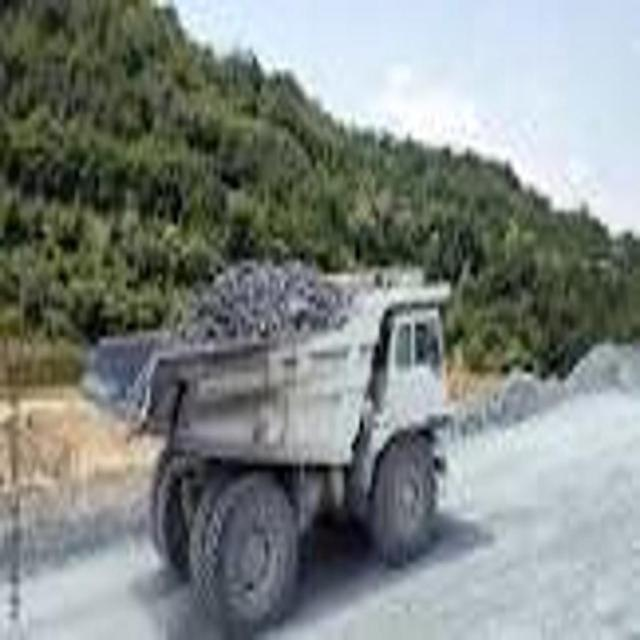dump_truck: (84, 245, 458, 631)
